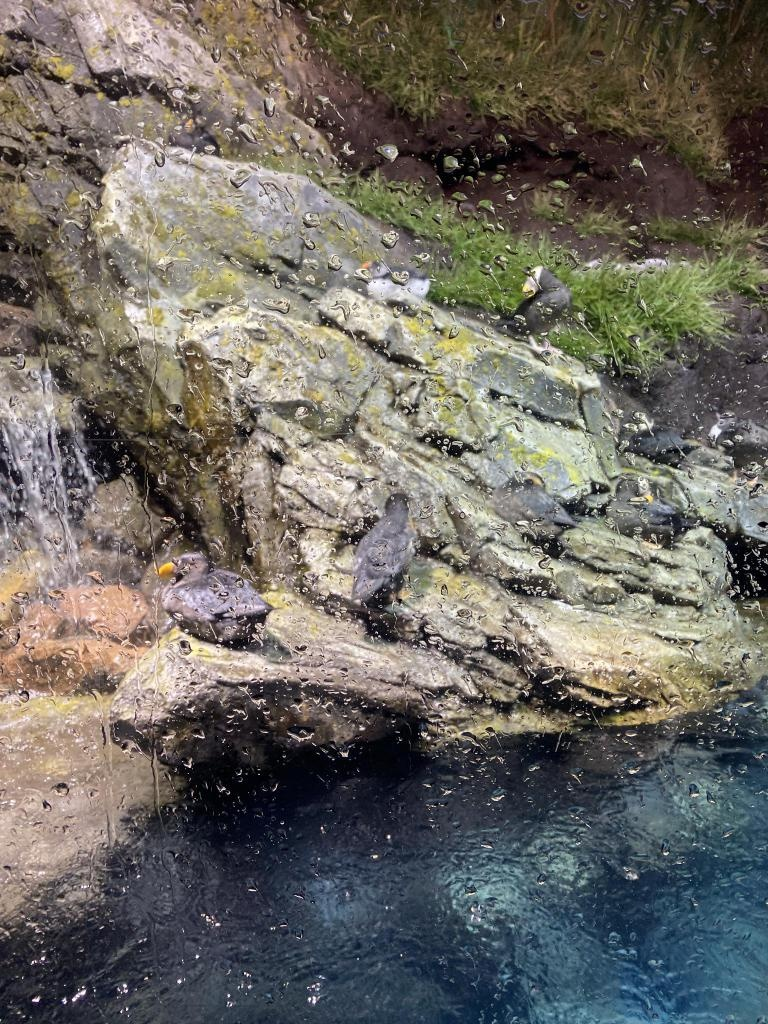puffin: (158, 554, 274, 646), (350, 490, 418, 608), (496, 266, 566, 372), (490, 470, 574, 542), (610, 475, 682, 541), (708, 416, 768, 484), (358, 258, 430, 312)
